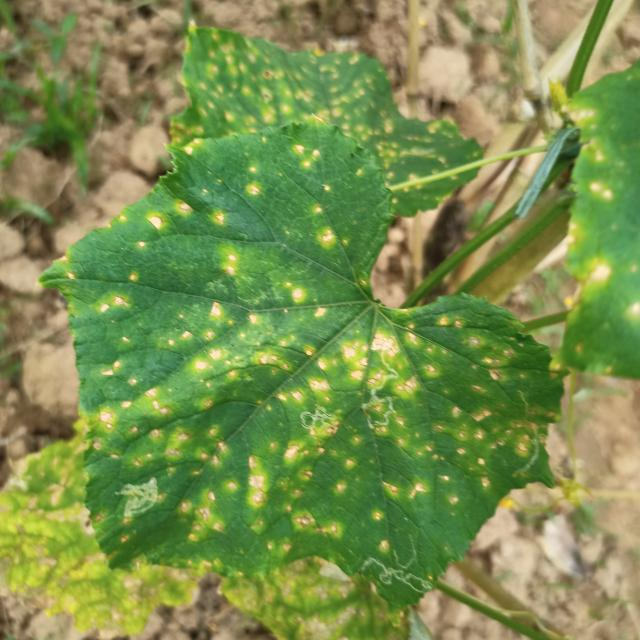disease_cucumber: (77, 294, 550, 582), (565, 101, 621, 206), (567, 218, 616, 296), (278, 276, 332, 319), (313, 182, 339, 256), (176, 198, 236, 228), (130, 211, 162, 261), (290, 140, 322, 173), (222, 248, 242, 283), (244, 165, 260, 202)
